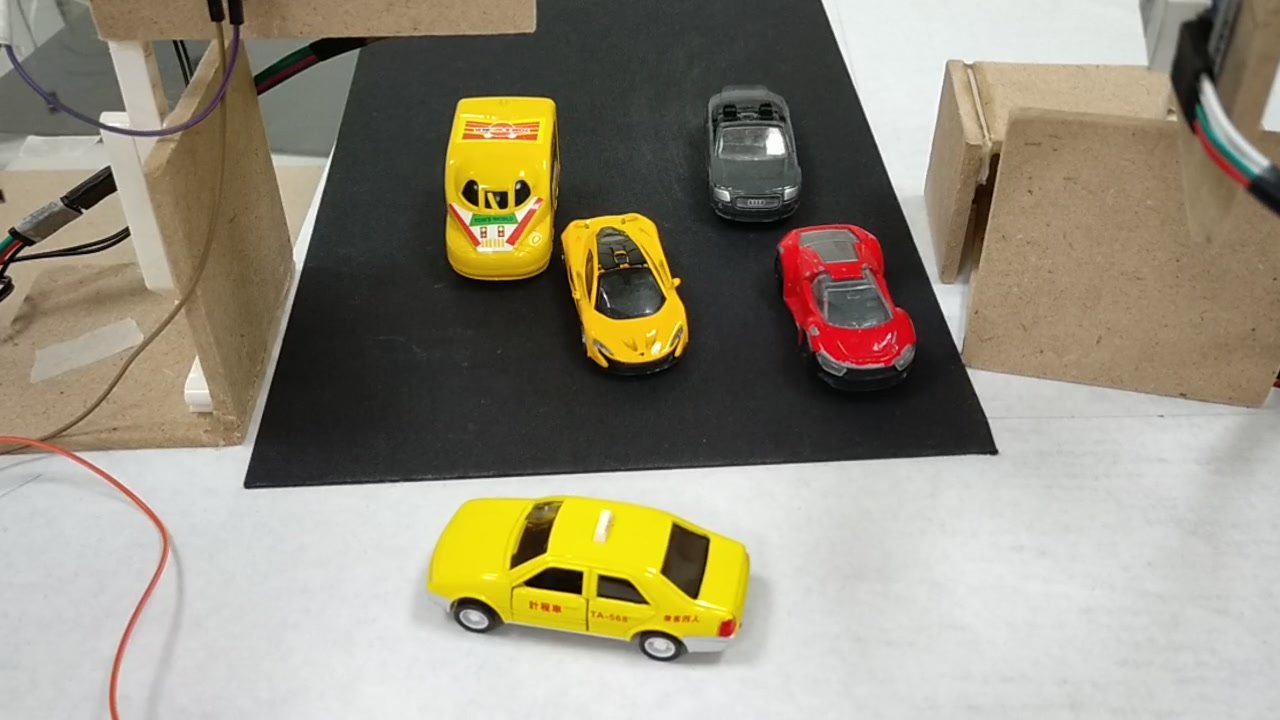car: (417, 493, 752, 662), (775, 223, 920, 388), (557, 211, 692, 378), (703, 92, 803, 226)
